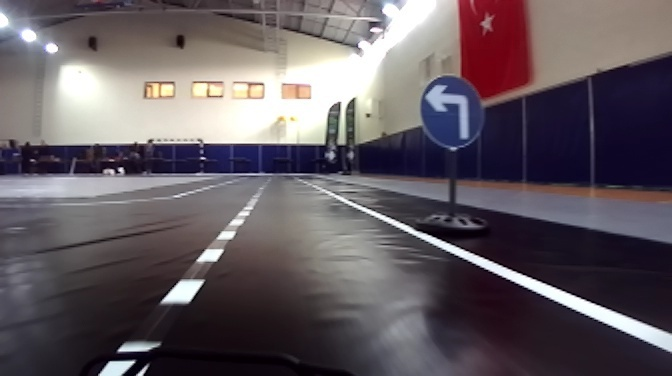sola_donus: (420, 74, 486, 146)
